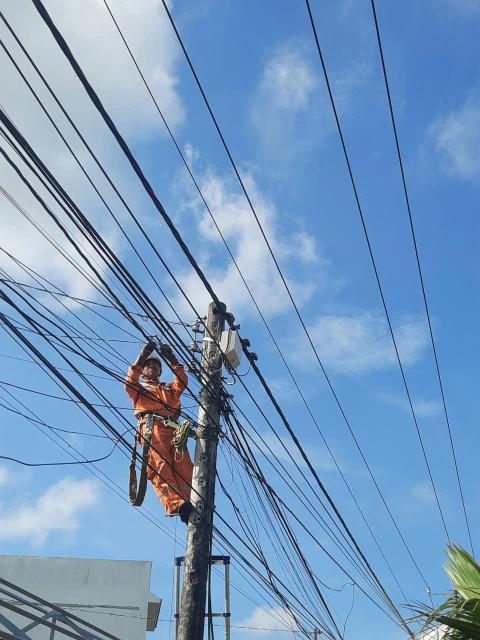gloves: (135, 338, 158, 364), (159, 341, 181, 364)
harness: (133, 406, 182, 431)
helmet: (135, 346, 164, 376)
shoes: (176, 502, 195, 524)
